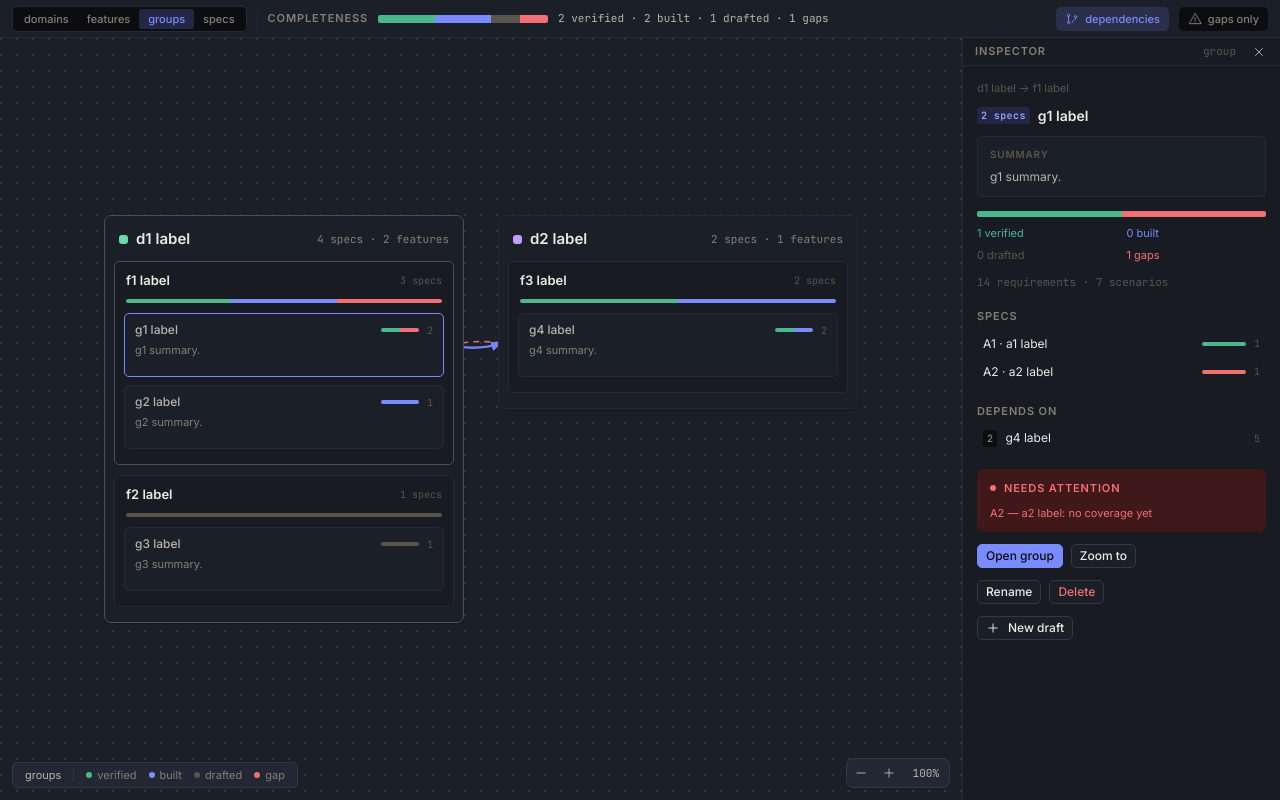
Test: editing and moving a node (SMO-FR-PZEI, SMO-FR-SLNC) › SMO-FR-PZEI: Rename opens the dialog filled in, and Save changes the label everywhere
The image size is (1280, 800).
Click the button "Rename" at (1009, 592), box x1=977 y1=580 x2=1041 y2=604
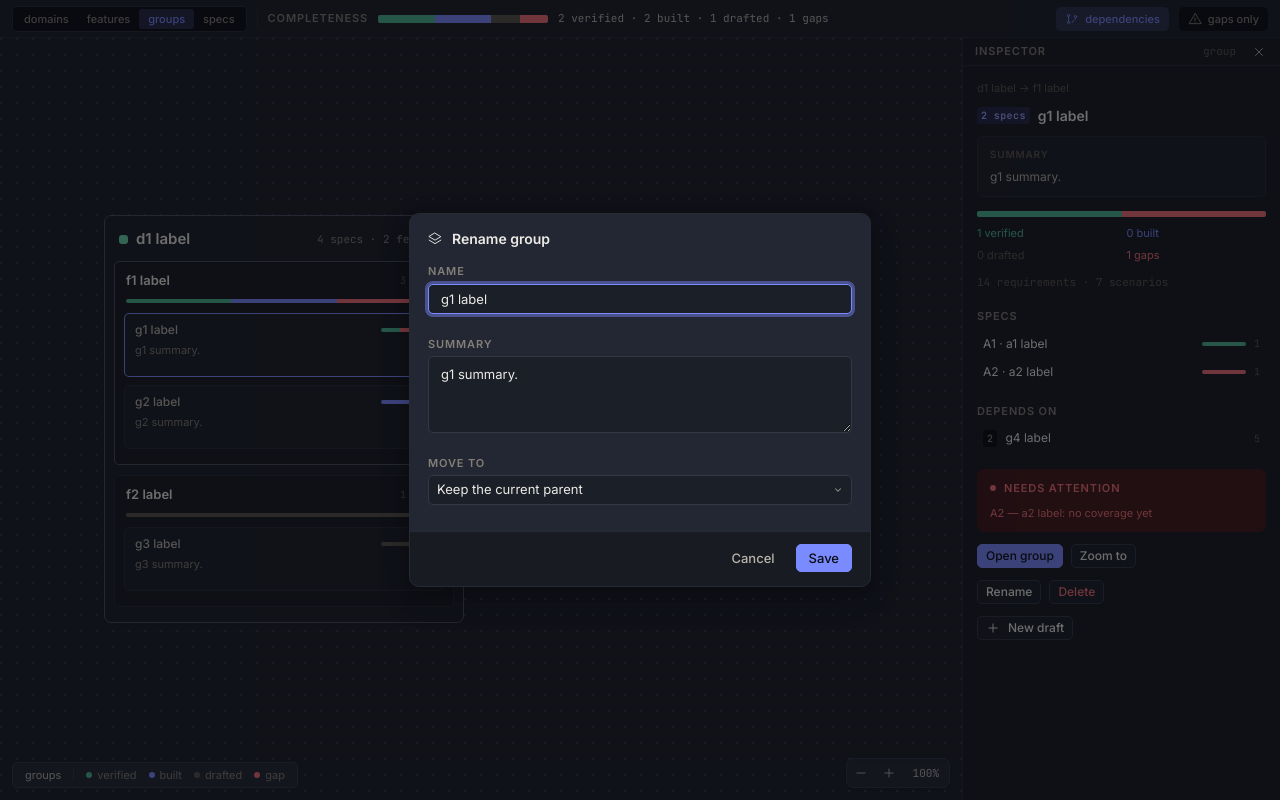
Now the field labelled "Name" holds "g1 label"
Now the text box labelled "Summary" holds "g1 summary.", box x1=428 y1=356 x2=852 y2=432
Replace the text in the field labelled "Name" with "zones" at (640, 298), box x1=428 y1=284 x2=852 y2=314
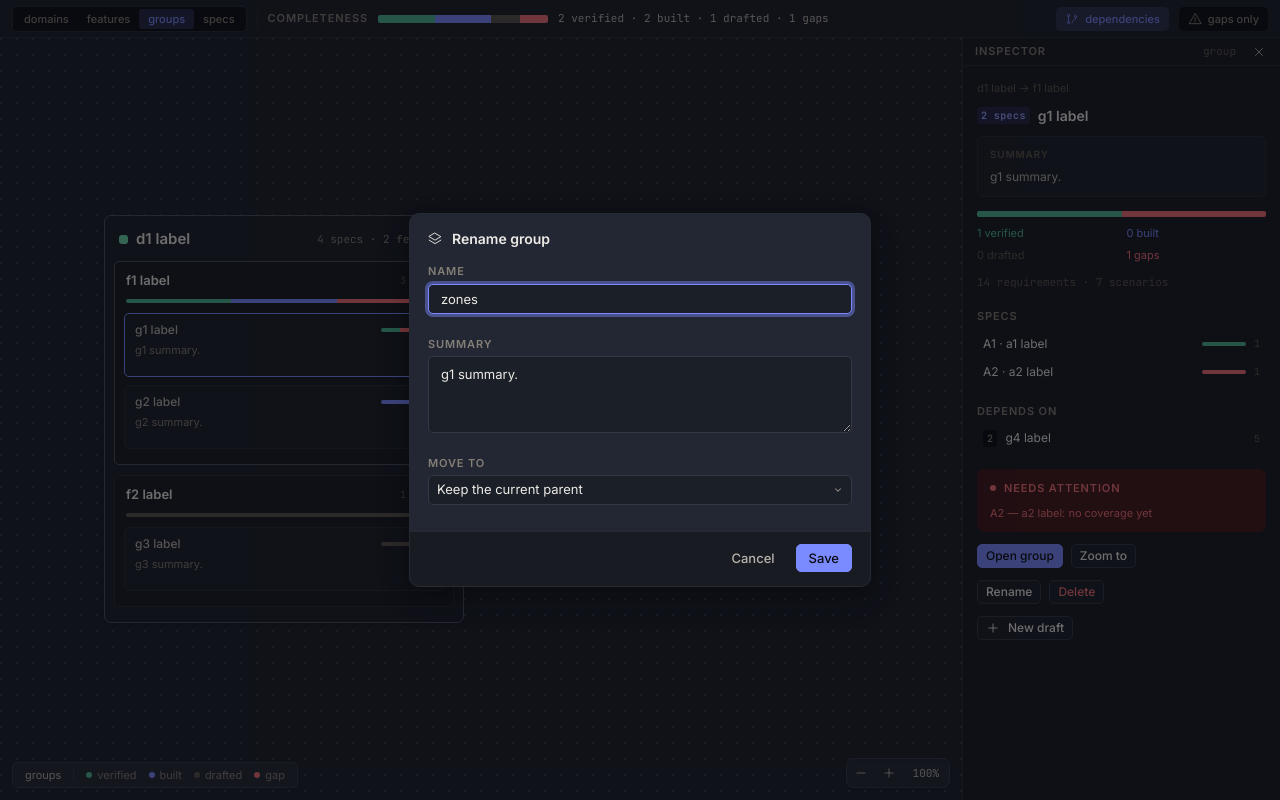
Click the button "Save" at (824, 558), box x1=796 y1=544 x2=852 y2=572
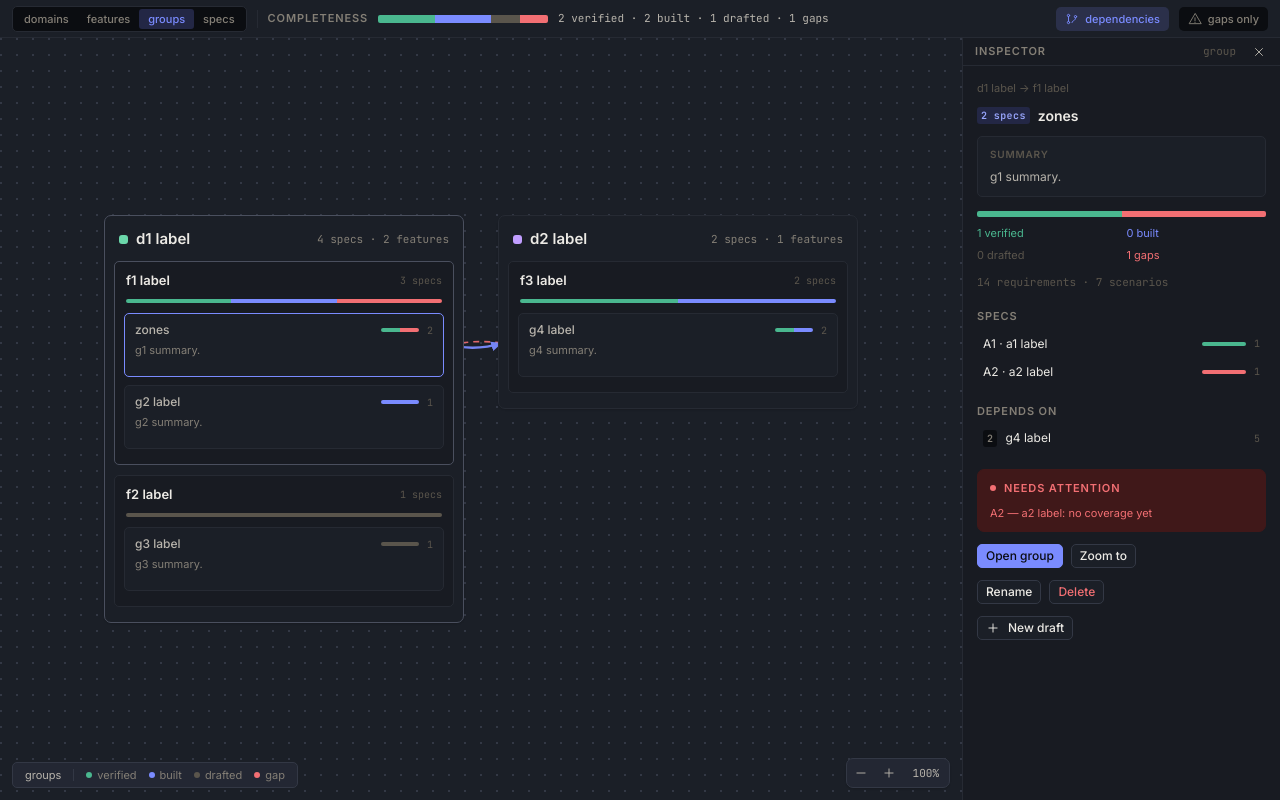
Now the button with aria-label "zones, group" is shown, box x1=124 y1=313 x2=444 y2=377
Now the text with class "smap-inspector__name" reads "zones", box x1=1038 y1=106 x2=1078 y2=124
